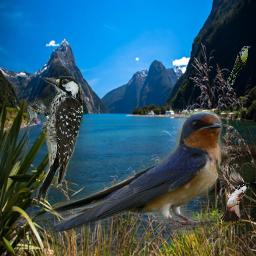Cuckoo: (227, 46, 251, 85)
Swallow: (16, 110, 232, 235), (214, 162, 250, 222)
Woodpecker: (27, 76, 83, 204)
